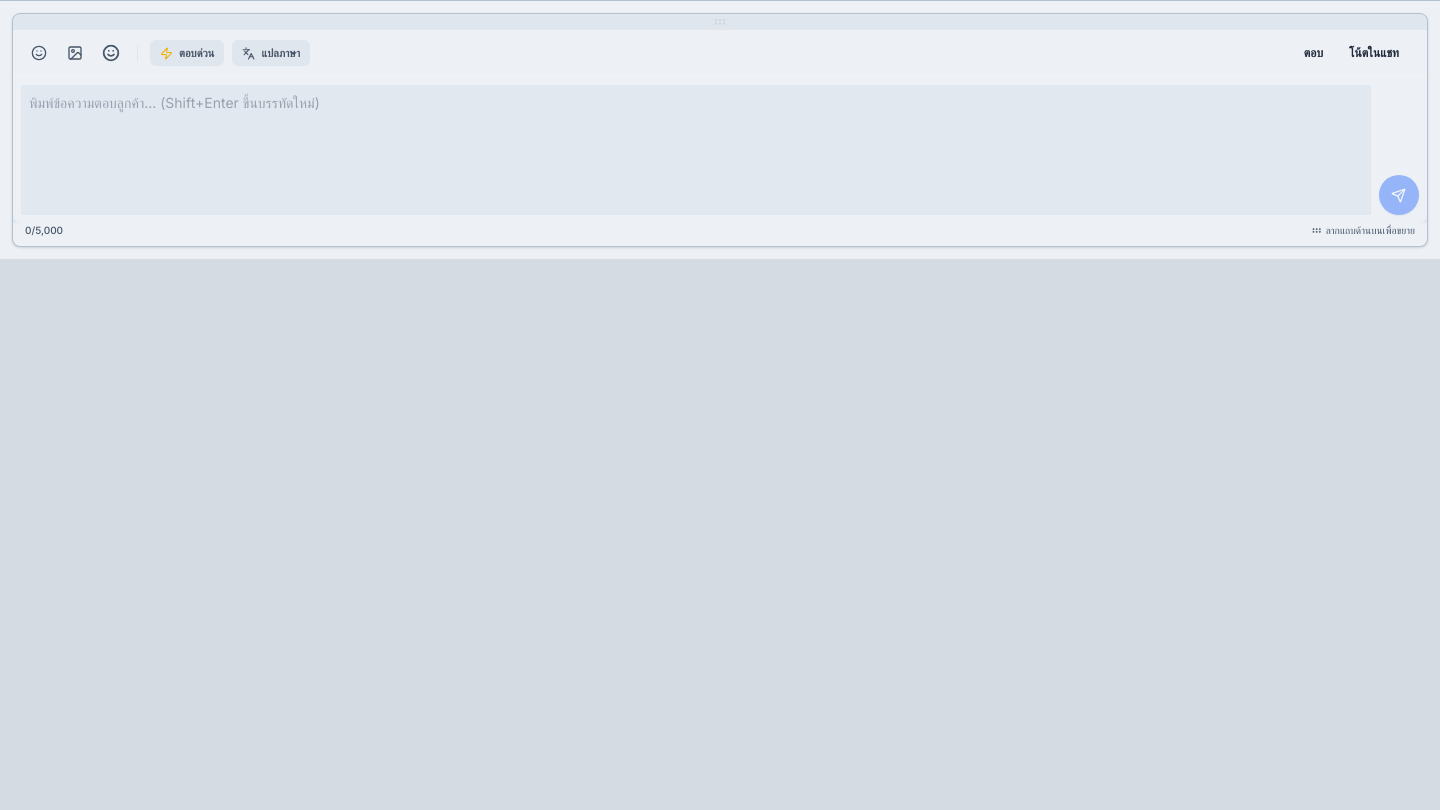
Test: [FEAT-20260918-AUTOSENDCONFIRM] switching the outbound language, end to end › the confirm names lo by its語 name, not its code
Type "ยอดเข้าแล้วครับ" into the text box with placeholder "พิมพ์ข้อความตอบลูกค้า... (Shift+Enter ขึ้นบรรทัดใหม่)".
click(696, 150); type("ยอดเข้าแล้วครับ")  # box left=21, top=85, right=1371, bottom=215
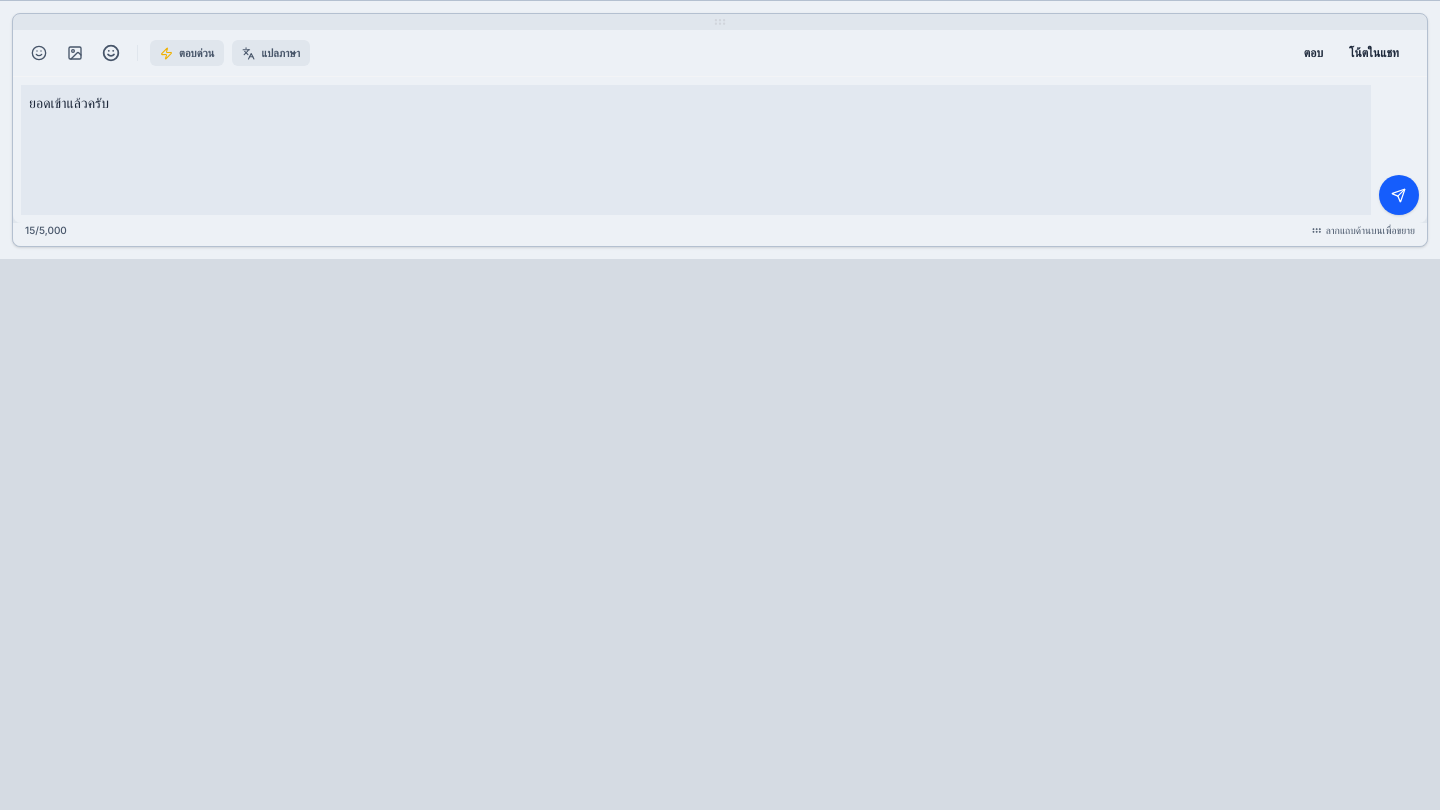
Click the button titled "ส่งถึงลูกค้า".
click(1399, 195)  # box left=1379, top=175, right=1419, bottom=215
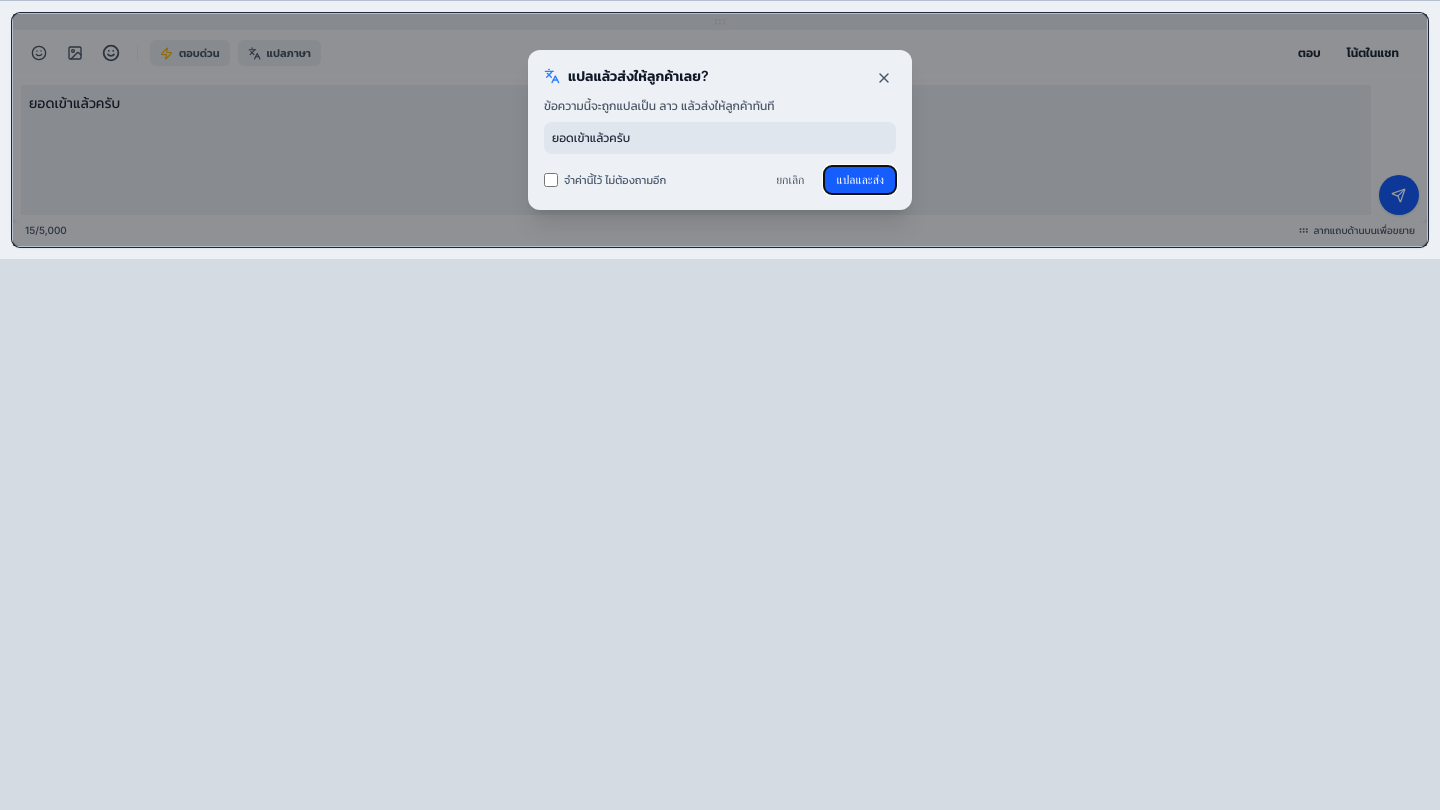
Result: the dialog with test id "auto-send-confirm" shows "ลาว" at left=544, top=98, right=774, bottom=113
